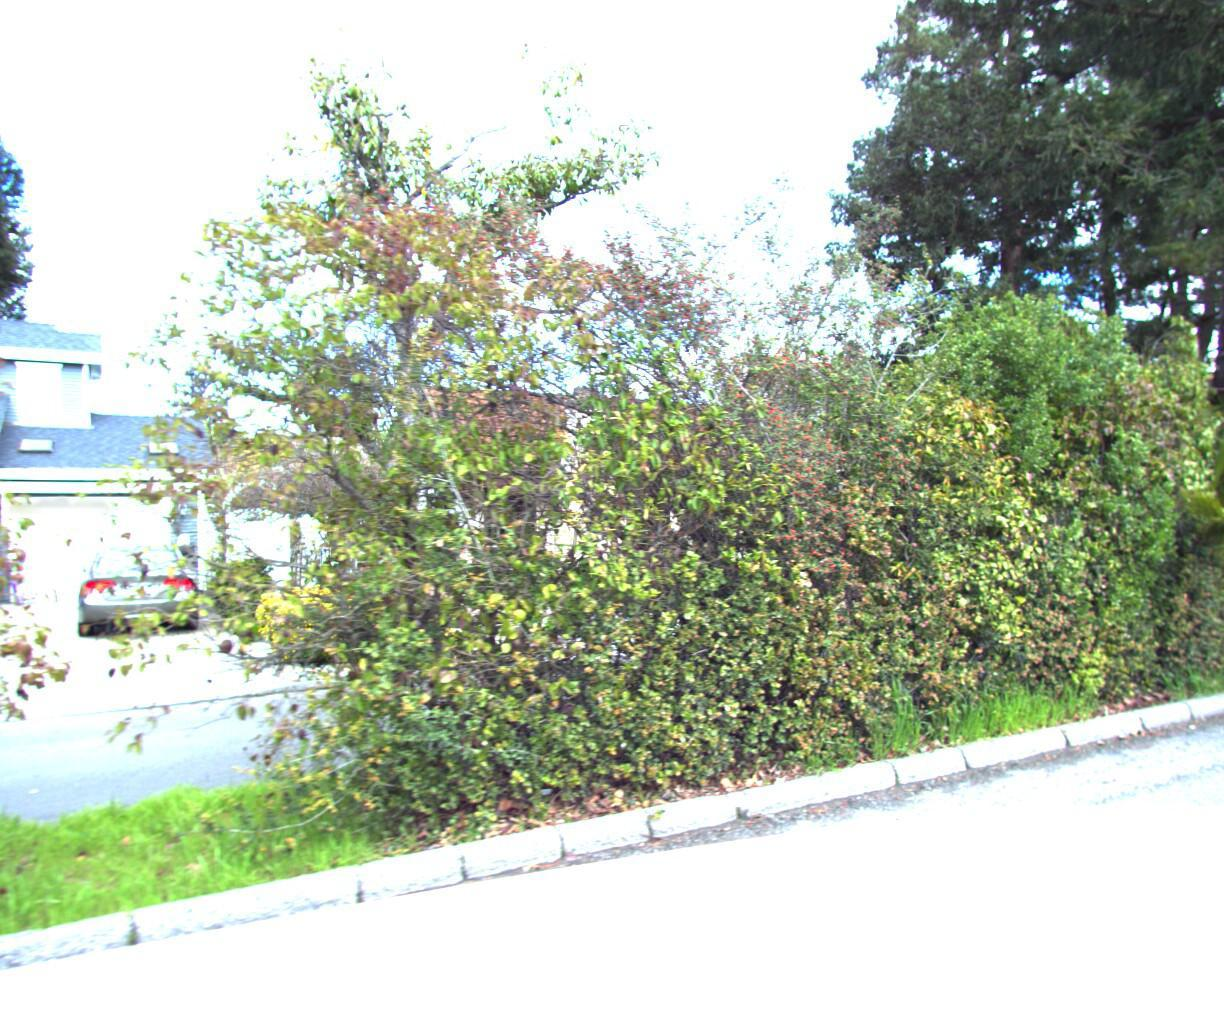car: (71, 539, 193, 648)
